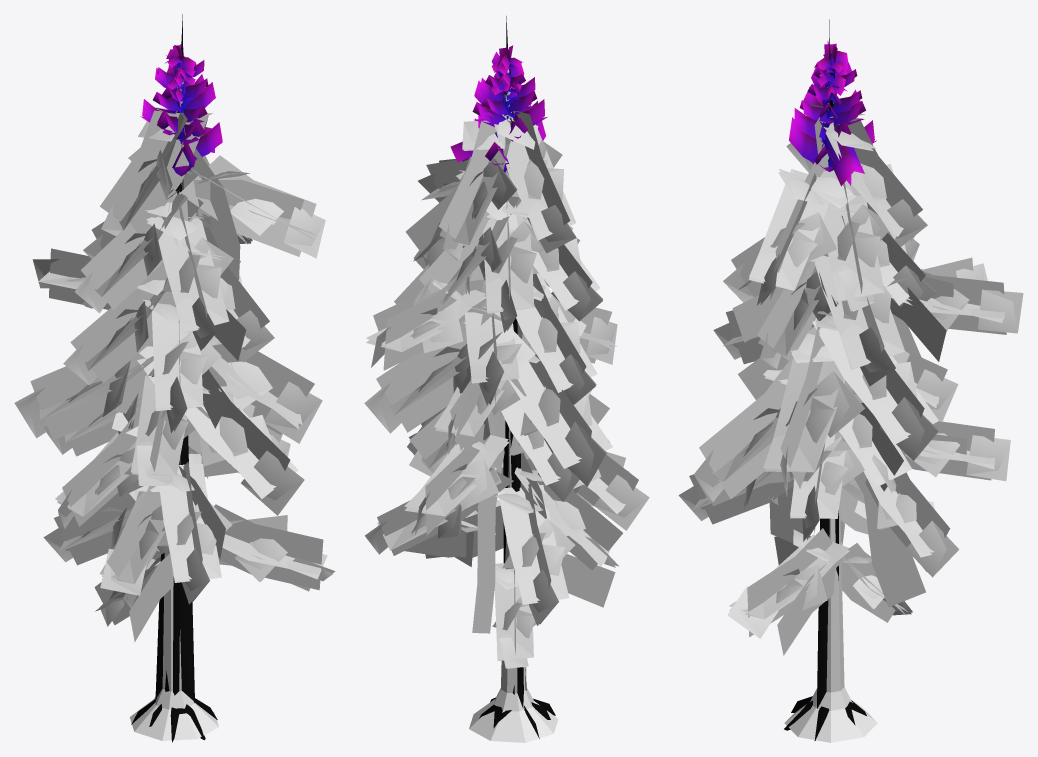
The model's file is redwood_broad.dae.
3 renders of one model, left to right at view 1: azimuth 30°, elevation 25°; view 2: azimuth 150°, elevation 25°; view 3: azimuth 270°, elevation 25°, orthographic.
Parts seen in each view (by area): view 1: redwood_broad_a750, redwood_broad_a350, Colmesh-1; view 2: redwood_broad_a750, redwood_broad_a350, Colmesh-1; view 3: redwood_broad_a750, redwood_broad_a350, Colmesh-1.
Part boxes in pixels (left/top/right/bottom): redwood_broad_a750: left=17, top=14, right=332, bottom=742; redwood_broad_a350: left=14, top=55, right=335, bottom=739; Colmesh-1: left=129, top=68, right=218, bottom=740; redwood_broad_a750: left=366, top=16, right=649, bottom=738; redwood_broad_a350: left=364, top=106, right=648, bottom=708; Colmesh-1: left=469, top=69, right=558, bottom=742; redwood_broad_a750: left=679, top=19, right=1017, bottom=740; redwood_broad_a350: left=678, top=41, right=1023, bottom=708; Colmesh-1: left=784, top=82, right=877, bottom=742.
Size of the model in its own units: 14.32 by 16.8 by 38.5.
